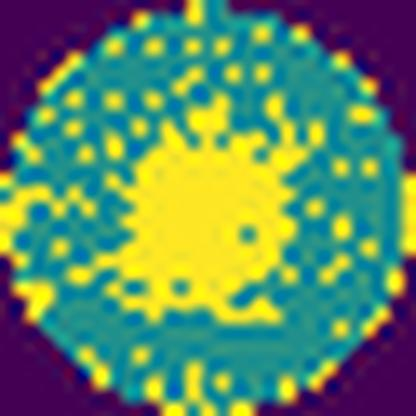Center: (73, 94, 328, 323)
